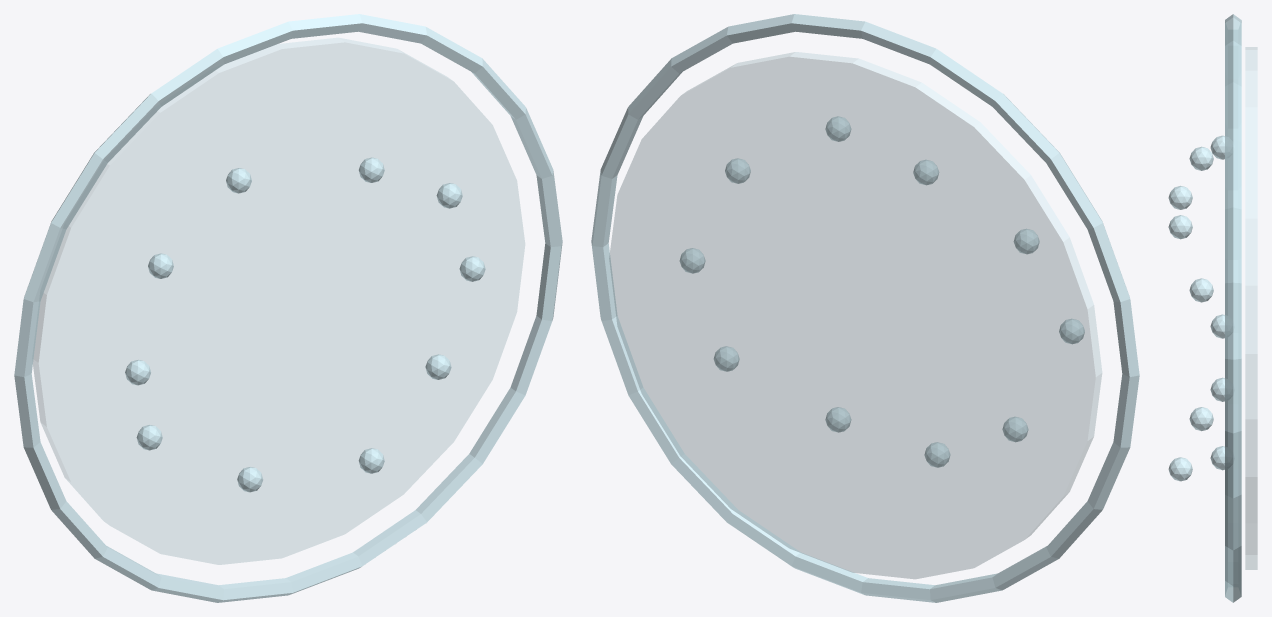
Rendered from 03_water_star_environment_overlay_3.glb.
The picture shows the model from 3 angles, left to right: view 1: azimuth 30°, elevation 25°; view 2: azimuth 150°, elevation 25°; view 3: azimuth 270°, elevation 25°; orthographic projection. The views are drawn at different scales.
Parts seen in each view (by area): view 1: environment_surface_disc, foam_or_star_ring; view 2: environment_surface_disc, foam_or_star_ring; view 3: foam_or_star_ring, environment_surface_disc, star_or_droplet_1, star_or_droplet_4, star_or_droplet_8, star_or_droplet_2, star_or_droplet_5, star_or_droplet_7, star_or_droplet_6, star_or_droplet_3, star_or_droplet_9, star_or_droplet_0.
Part boxes in pixels (x1,y1,x2,y2): environment_surface_disc: (33, 38, 524, 564); foam_or_star_ring: (14, 14, 562, 602); environment_surface_disc: (609, 52, 1101, 578); foam_or_star_ring: (591, 14, 1139, 602); foam_or_star_ring: (1225, 14, 1241, 602); environment_surface_disc: (1245, 47, 1257, 569); star_or_droplet_1: (1189, 278, 1213, 302); star_or_droplet_4: (1189, 146, 1213, 170); star_or_droplet_8: (1168, 457, 1192, 481); star_or_droplet_2: (1168, 185, 1192, 209); star_or_droplet_5: (1168, 215, 1192, 239); star_or_droplet_7: (1189, 407, 1213, 431); star_or_droplet_6: (1210, 314, 1224, 338); star_or_droplet_3: (1210, 135, 1224, 159); star_or_droplet_9: (1210, 446, 1224, 470); star_or_droplet_0: (1210, 377, 1224, 401).
Bounding box in the file's own units: 1.69 × 1.69 × 0.2545.
